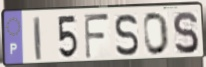5: (57, 13, 79, 61)
F: (82, 13, 111, 61)
I: (32, 15, 43, 62)
O: (142, 11, 171, 57)
S: (171, 10, 200, 56), (114, 12, 140, 58)
